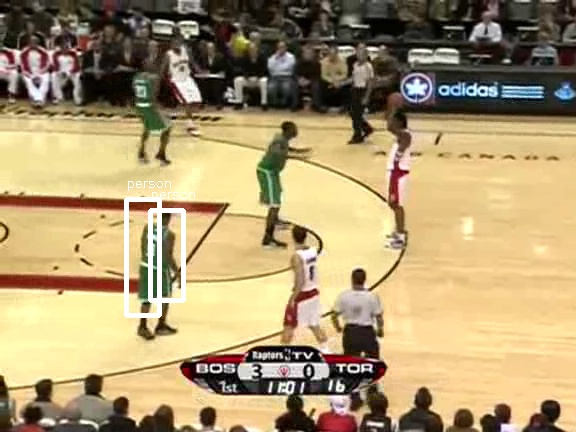person: (138, 225, 172, 306), (137, 225, 171, 306), (139, 225, 173, 306), (138, 224, 172, 305), (138, 226, 172, 307)
target_negative: (83, 56, 257, 225), (42, 356, 415, 417), (57, 232, 121, 389), (413, 121, 495, 191), (228, 410, 478, 417), (512, 110, 516, 185)
